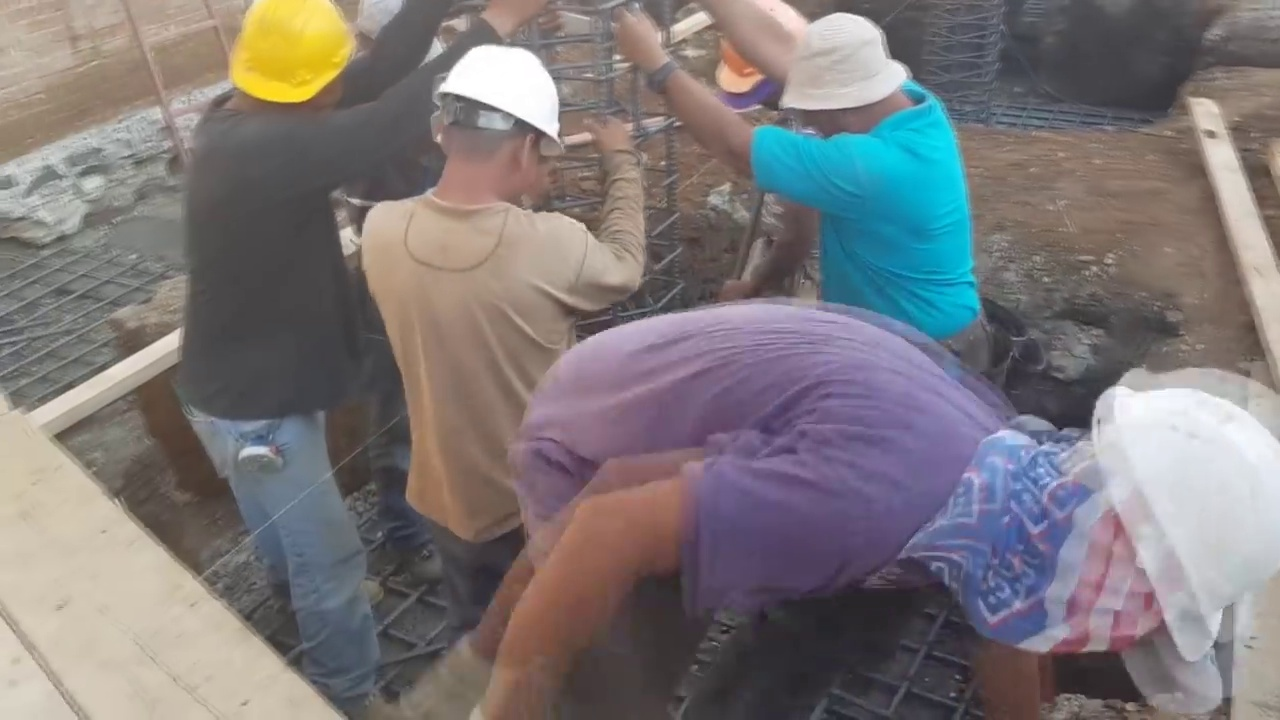helmet: (1098, 363, 1280, 666), (429, 43, 562, 151), (222, 5, 352, 108), (705, 23, 770, 96)
helmet-off: (769, 17, 934, 144)
helmet-on: (950, 360, 1279, 683), (422, 39, 567, 210), (201, 2, 357, 132), (705, 0, 806, 113)
person: (445, 305, 1280, 716), (171, 0, 460, 720), (351, 31, 633, 593), (620, 12, 990, 341), (705, 16, 829, 309)
